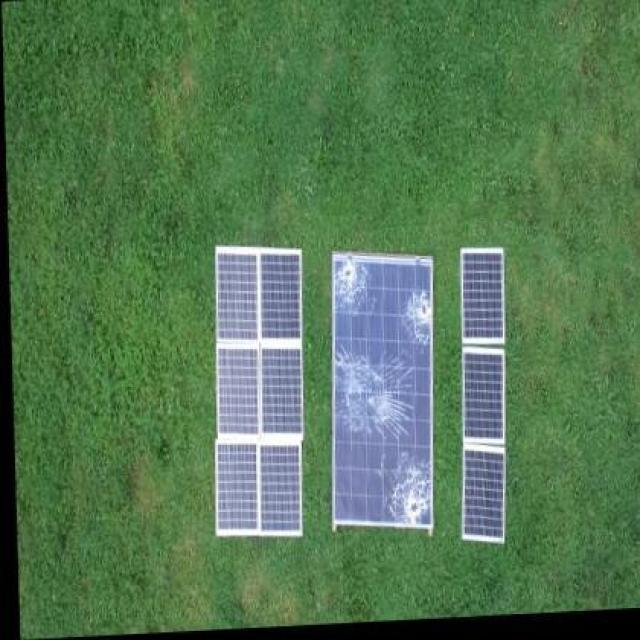cracked: (326, 246, 439, 540)
